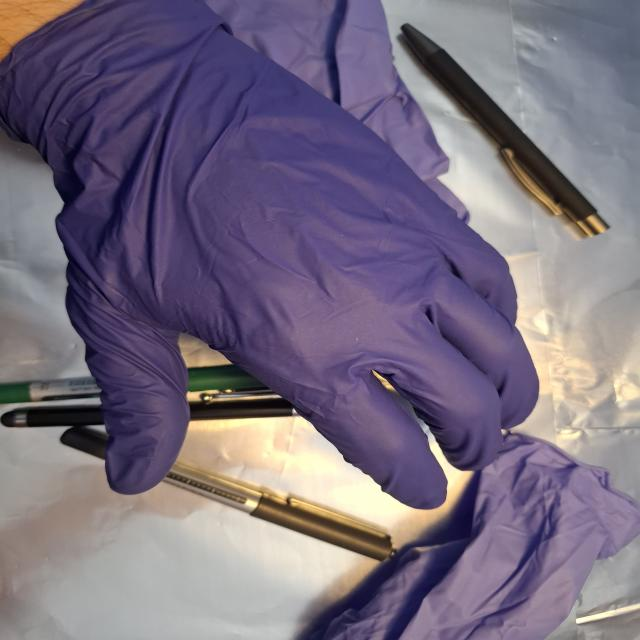glove_on: (3, 0, 544, 514)
